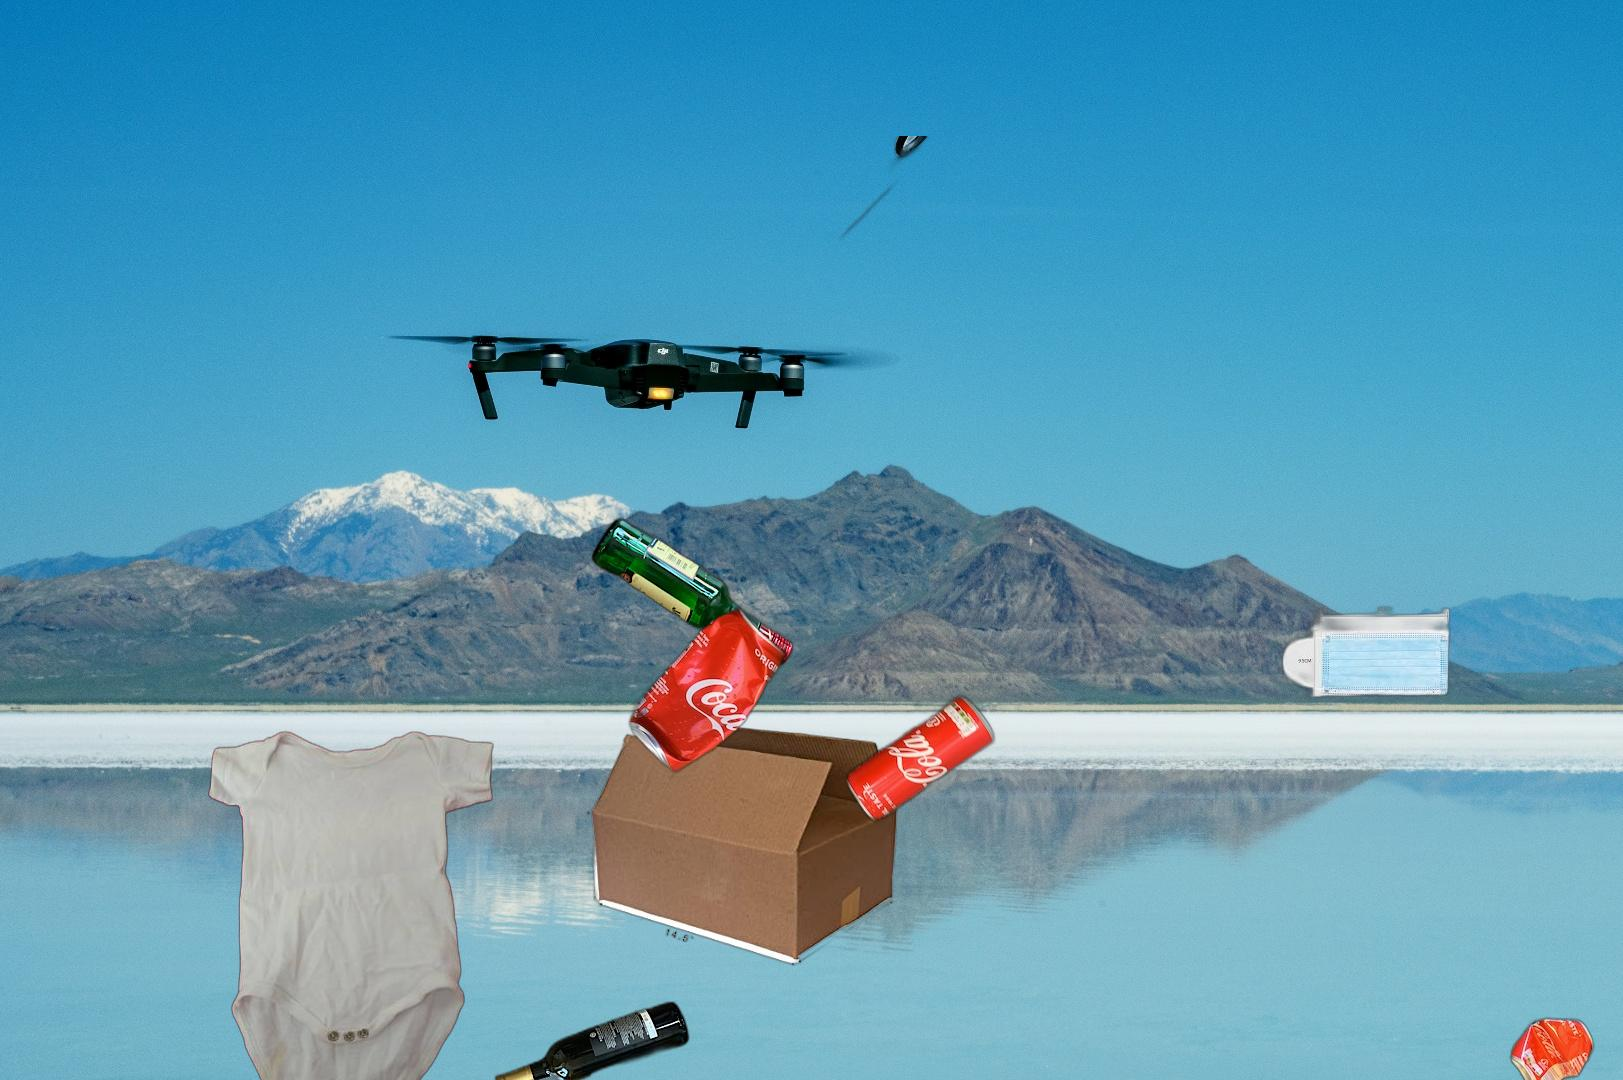clothes: (205, 727, 496, 1080)
glass: (587, 136, 933, 670), (490, 683, 790, 1080)
metal-cans: (627, 603, 1047, 1080), (842, 689, 999, 827), (1506, 1012, 1598, 1080)
trash: (1274, 542, 1453, 704)
trashbox-cardboard: (586, 720, 899, 965)
